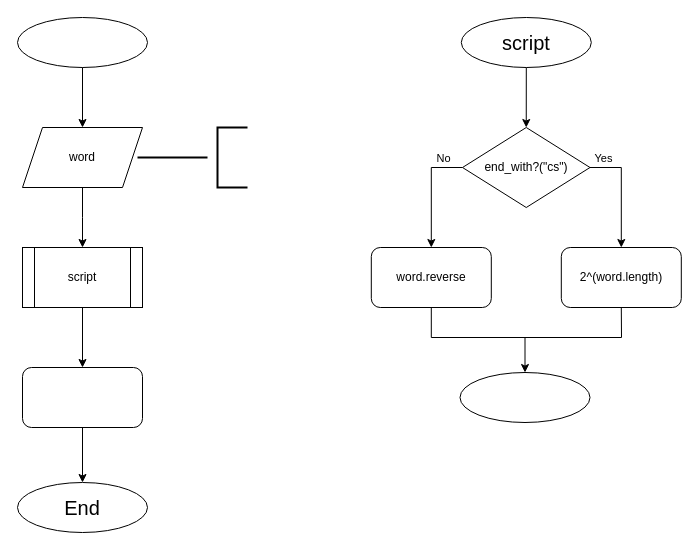
The diagram is 699 pixels wide and 550 high, and some of its shapes have lost their labels. The shapes that lost their labels are listed below. From the top down, each one's box as (x1, y1, x2, y2) in pixels, then its label:
(16, 16, 148, 68): Begin
(216, 126, 248, 188): Enter word
(22, 366, 142, 428): result
(459, 372, 590, 422): script end
